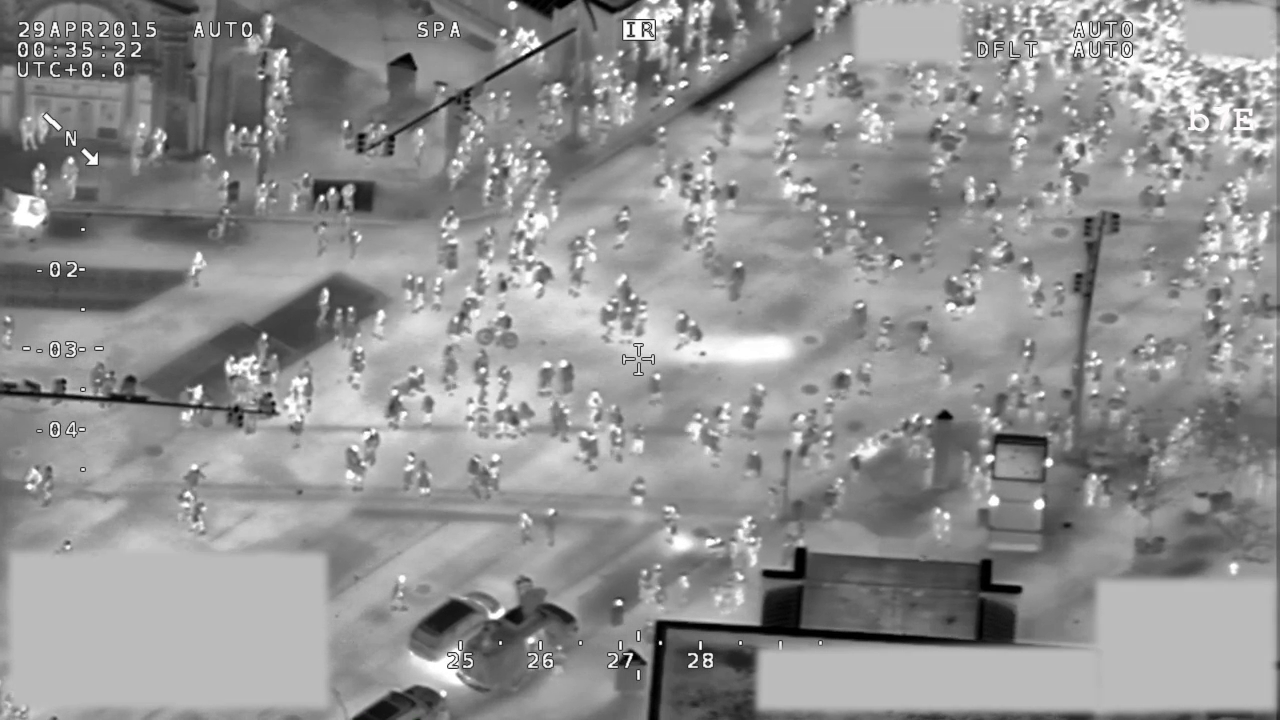vehicle: (457, 570, 590, 700), (401, 578, 507, 668)
